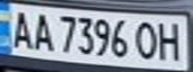3: (75, 14, 96, 56)
6: (109, 16, 133, 60)
7: (54, 11, 78, 54)
9: (90, 16, 112, 57)
A: (6, 7, 36, 51), (27, 10, 57, 52)
H: (154, 18, 187, 62)
O: (130, 18, 163, 61)
